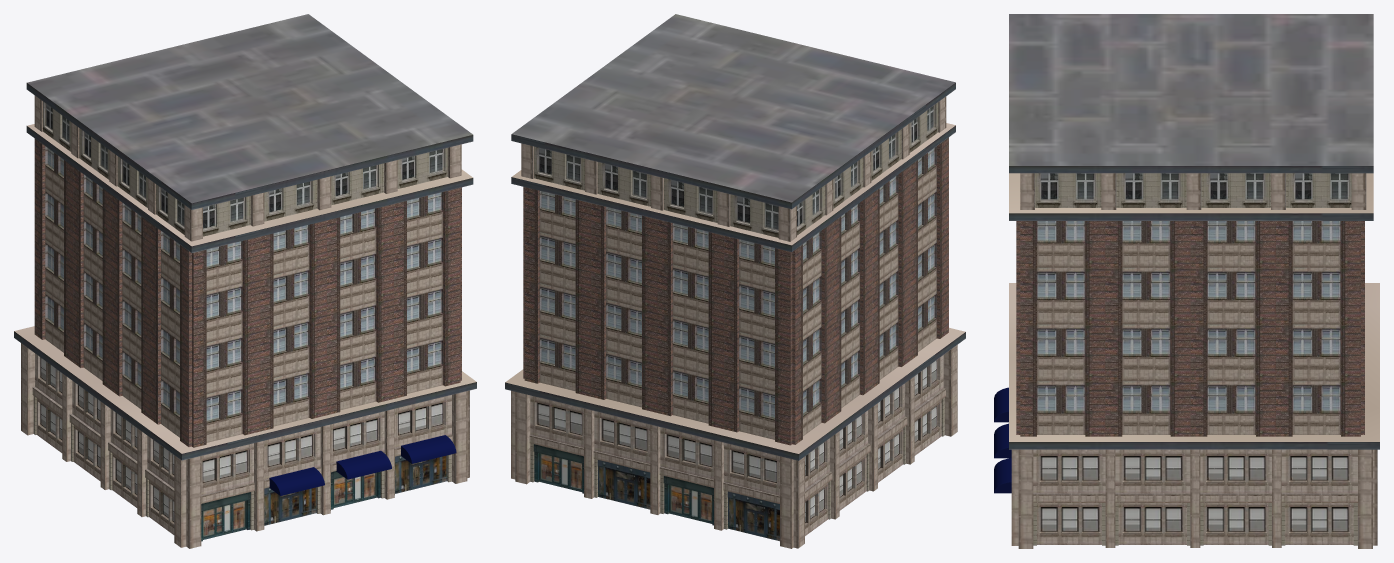
File: building-4.glb
3 renders of one model, left to right at view 1: azimuth 30°, elevation 25°; view 2: azimuth 150°, elevation 25°; view 3: azimuth 270°, elevation 25°, orthographic. The views are drawn at different scales.
Visible parts, largest first — view 1: Object_4; view 2: Object_4; view 3: Object_4.
Part boxes in pixels (x1,y1,x2,y2): Object_4: [14, 14, 476, 548]; Object_4: [505, 14, 965, 548]; Object_4: [994, 14, 1379, 548].
Bounding box in the file's own units: 2.52 × 2.83 × 2.58.
Materials: 1 (1 with a texture image).
